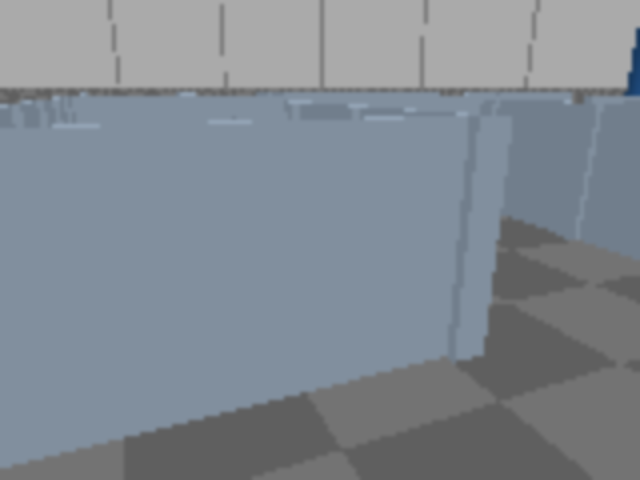person: (621, 0, 638, 149)
